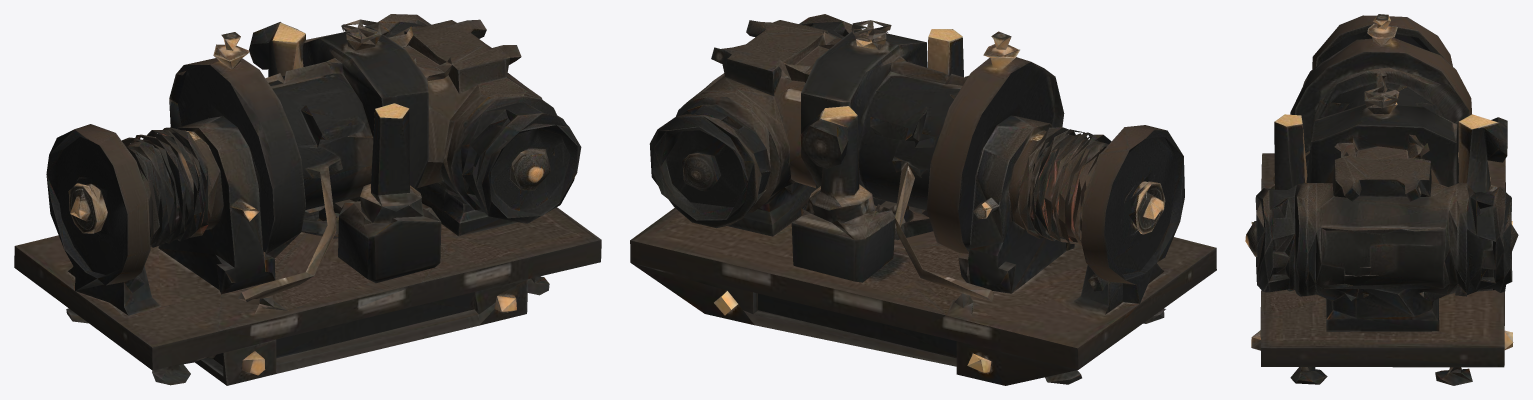
The model's file is mj-marconi-motor-generator.glb.
The picture shows the model from 3 angles, left to right: view 1: azimuth 30°, elevation 25°; view 2: azimuth 150°, elevation 25°; view 3: azimuth 270°, elevation 25°; orthographic projection. The views are drawn at different scales.
Visible parts, largest first — view 1: mj-marconi-motor-generator; view 2: mj-marconi-motor-generator; view 3: mj-marconi-motor-generator.
Boxes of the visible parts, x1=… form: mj-marconi-motor-generator: x1=14, y1=14, x2=601, y2=385; mj-marconi-motor-generator: x1=630, y1=14, x2=1216, y2=385; mj-marconi-motor-generator: x1=1245, y1=14, x2=1518, y2=385.
Size of the model in its own units: 1.18 by 0.7 by 0.689.
1 material, 1 textured.
